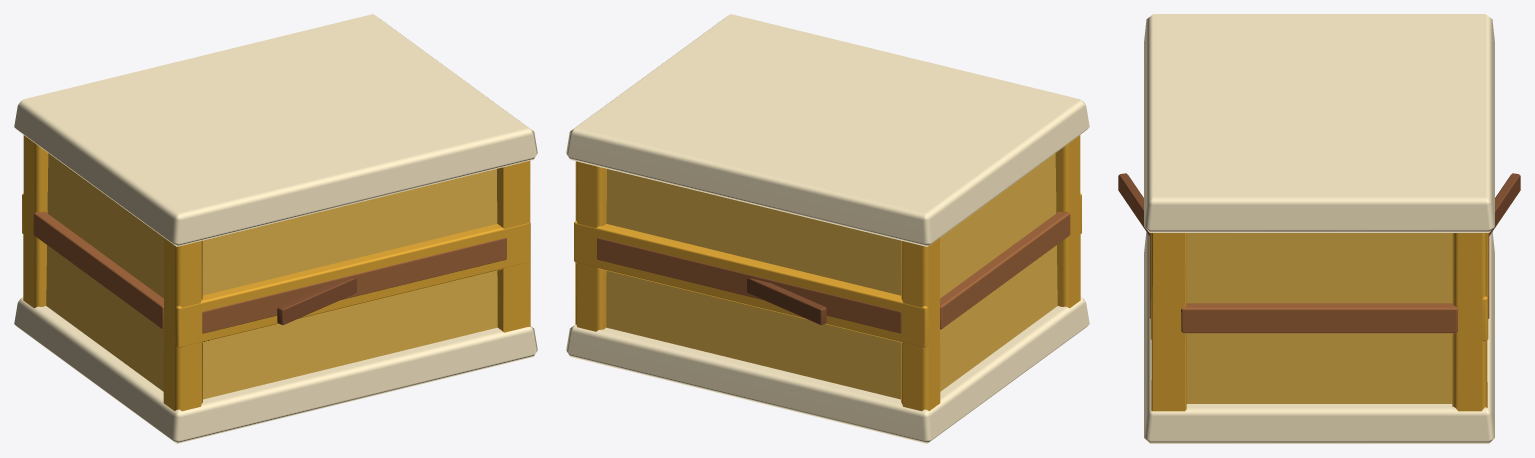
The model's file is a_ramp_box.glb.
The picture shows the model from 3 angles, left to right: view 1: azimuth 30°, elevation 25°; view 2: azimuth 150°, elevation 25°; view 3: azimuth 270°, elevation 25°; orthographic projection. The views are drawn at different scales.
Parts seen in each view (by area): view 1: a_ramp_box; view 2: a_ramp_box; view 3: a_ramp_box.
Boxes of the visible parts, x1,y1,x2,y2 form: a_ramp_box: (14,14,537,443); a_ramp_box: (566,14,1089,443); a_ramp_box: (1118,14,1520,443).
Bounding box in the file's own units: 1.73 × 1.04 × 1.54.
